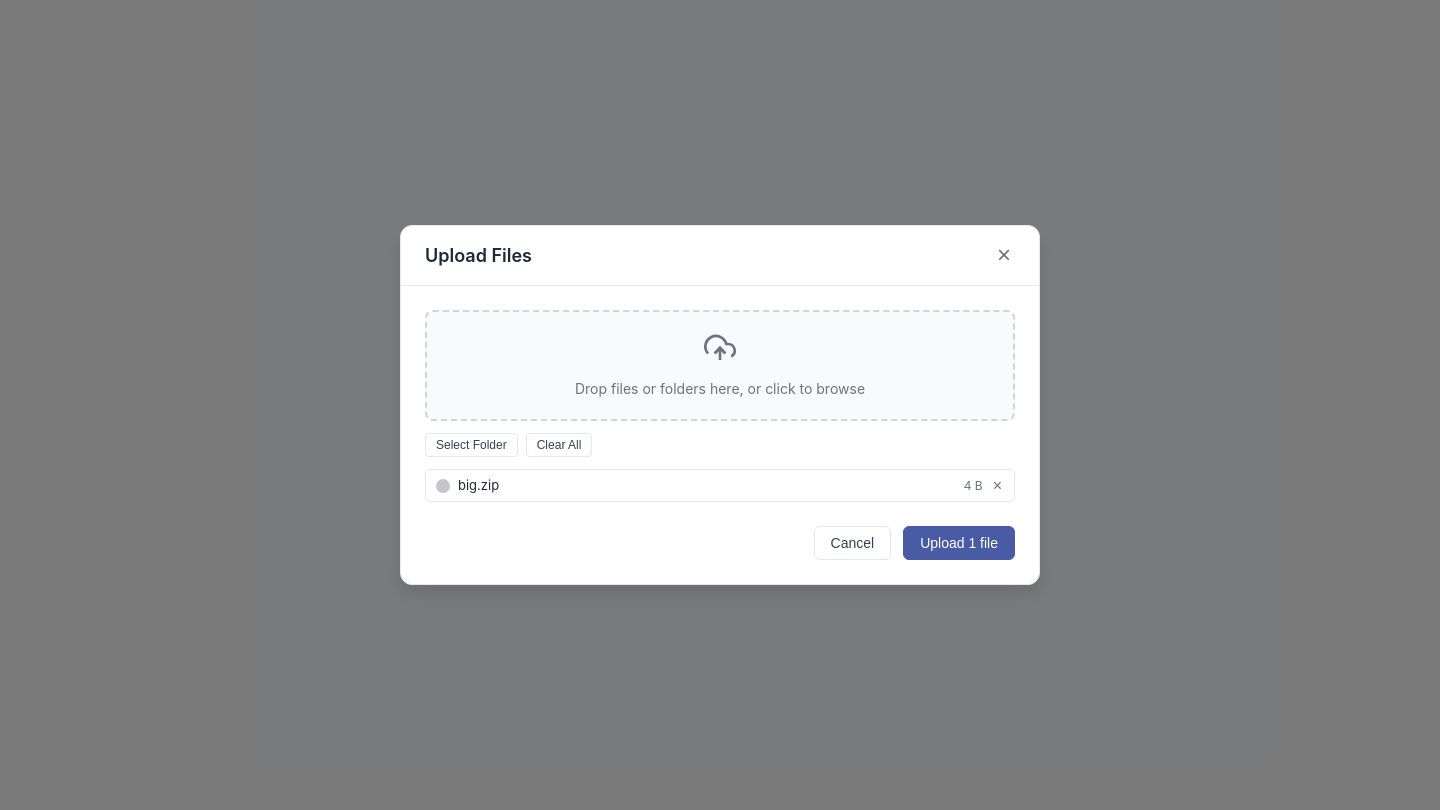
Test: UploadFileModal › transfer speed › shows live speed, falls during a stall, and reports the average when done
Earlier steps of the test are not shown.
Later steps or results of the test are not shown.
Click the button "Upload 1 file" at (959, 543), box [903,526,1015,560]
Wait 1000 ms
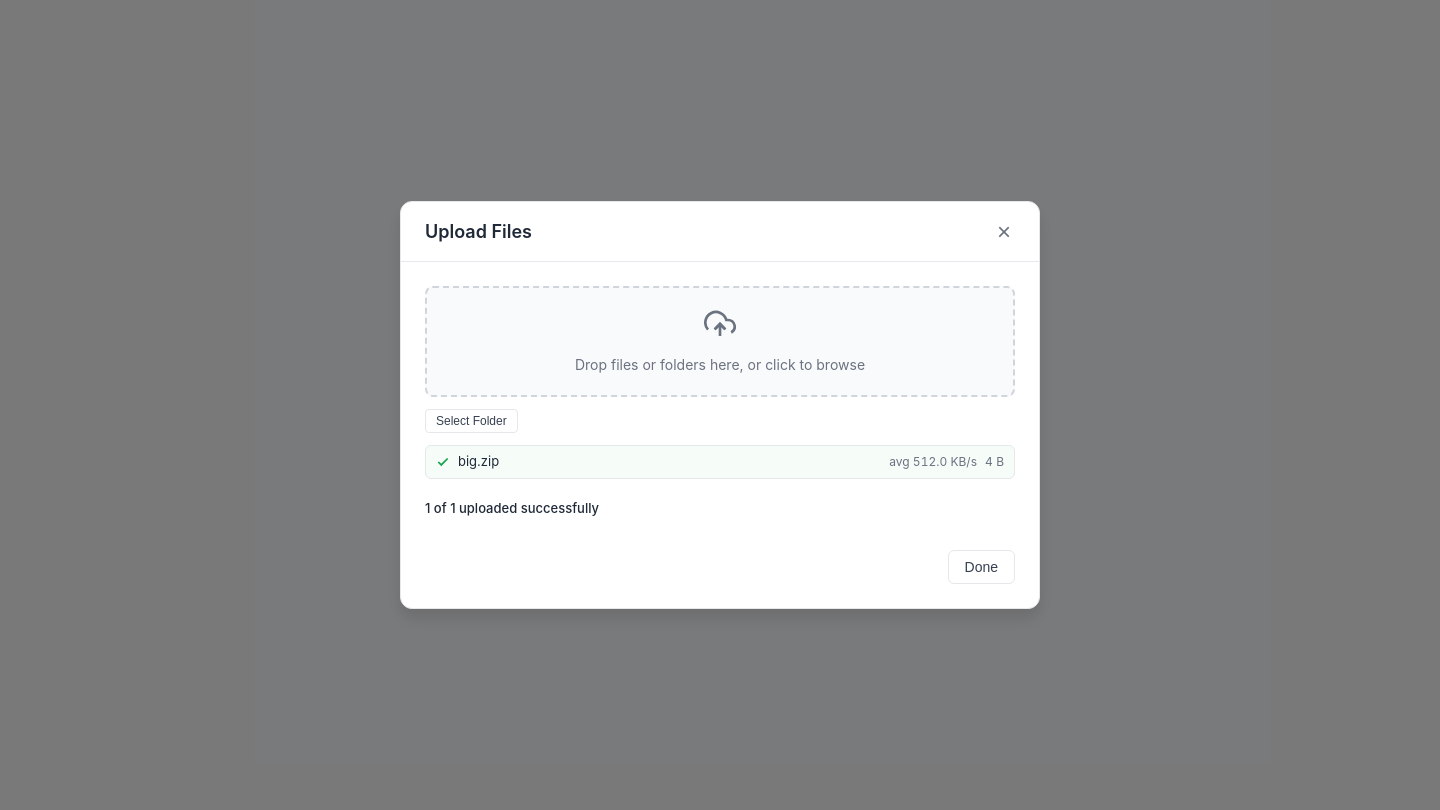
Check: the text "avg 512.0 KB/s" is shown, box [889,453,977,471]
